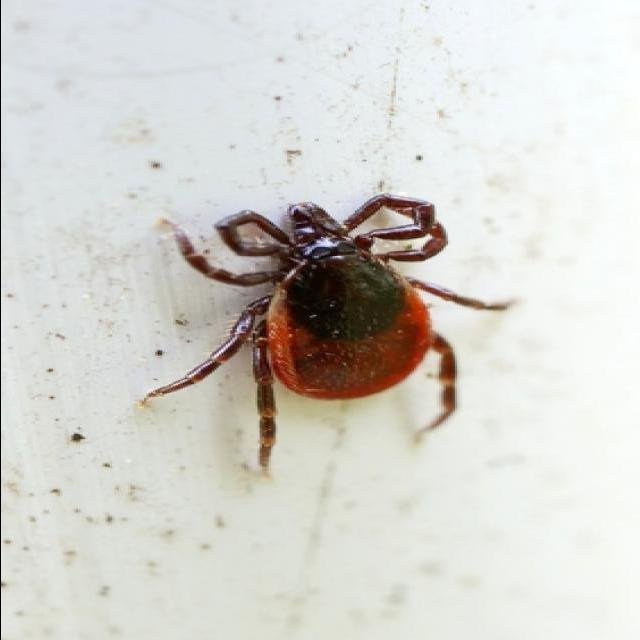Ixodes Ricinus-F: (143, 193, 506, 467)
